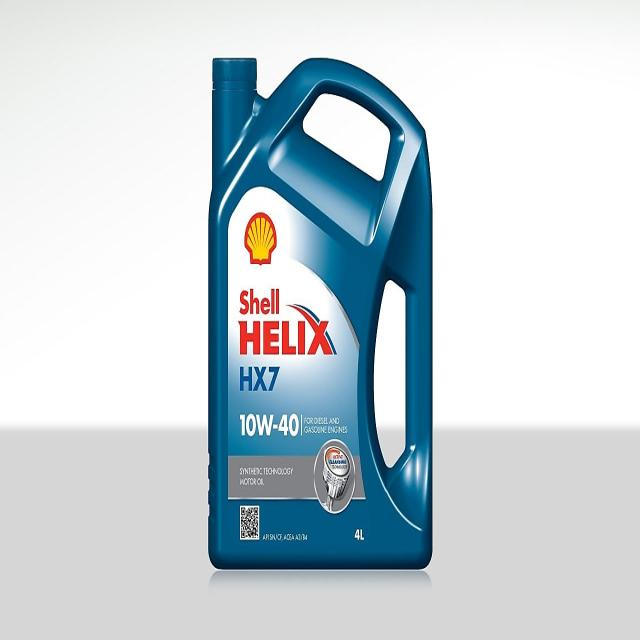motor_oil: (206, 46, 437, 583)
